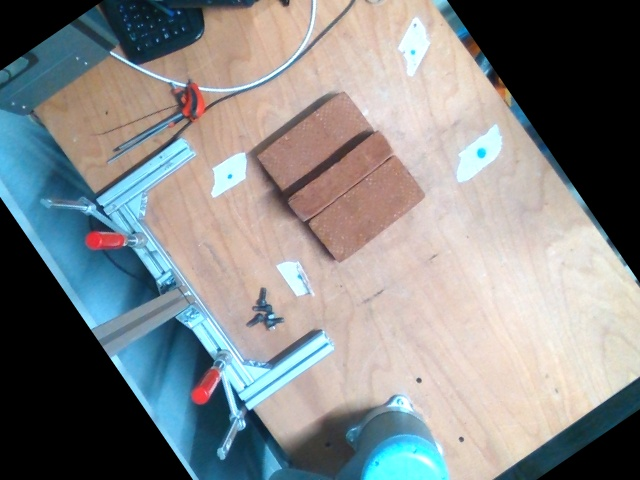brick: (310, 157, 424, 262), (257, 90, 371, 195)
brick-side: (285, 130, 392, 222)
